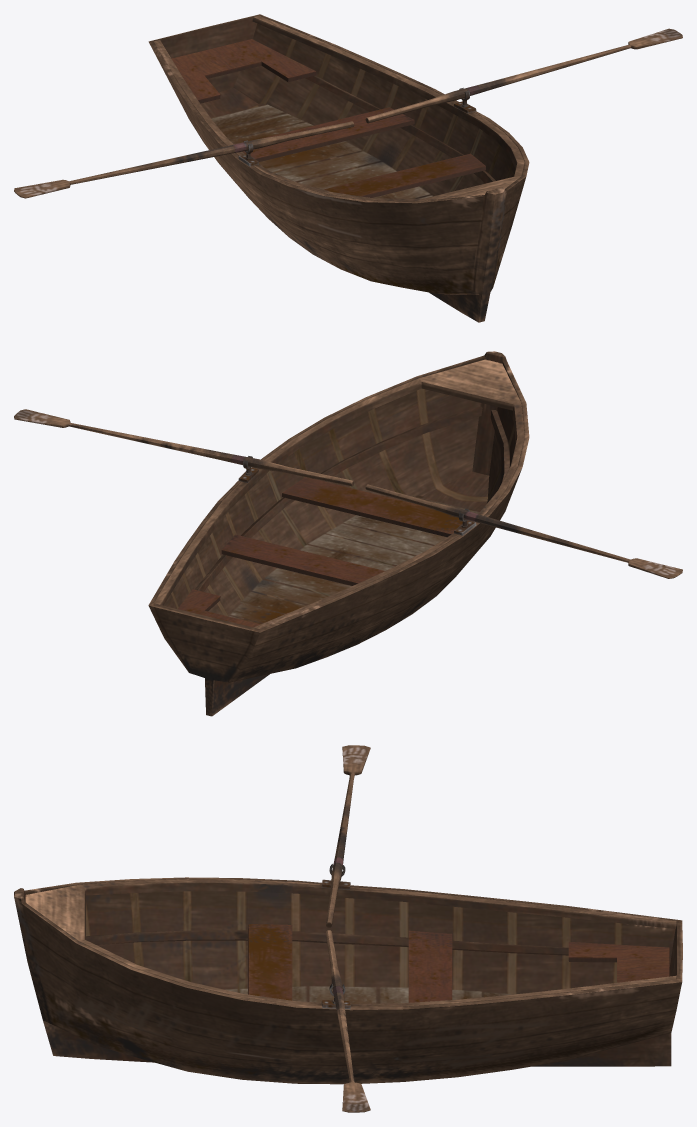
Rendered from boat.glb.
The picture shows the model from 3 angles, top to bottom: view 1: azimuth 30°, elevation 25°; view 2: azimuth 150°, elevation 25°; view 3: azimuth 270°, elevation 25°; orthographic projection. The views are drawn at different scales.
Visible parts, largest first — view 1: polySurface51, group6, polySurface146, group5; view 2: polySurface51, group6, polySurface146; view 3: polySurface51, polySurface146, group6.
Part boxes in pixels (x1=…): polySurface51: x1=148, y1=14, x2=529, y2=322; group6: x1=14, y1=28, x2=682, y2=199; polySurface146: x1=153, y1=15, x2=524, y2=201; group5: x1=238, y1=87, x2=476, y2=166; polySurface51: x1=148, y1=351, x2=529, y2=716; group6: x1=14, y1=409, x2=682, y2=627; polySurface146: x1=154, y1=359, x2=524, y2=628; polySurface51: x1=14, y1=877, x2=682, y2=1084; polySurface146: x1=25, y1=879, x2=676, y2=1007; group6: x1=225, y1=745, x2=669, y2=1112.
Size of the model in its own units: 101 by 22.16 by 77.62.
1 material, 1 textured.
